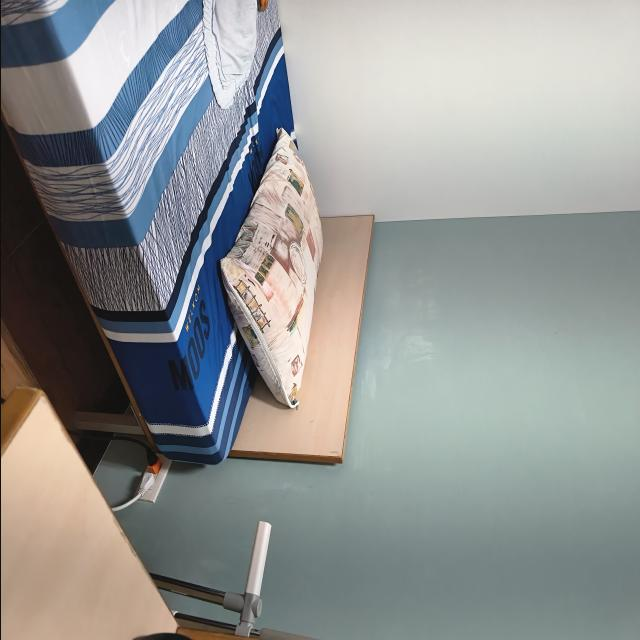other: (0, 4, 640, 640)
